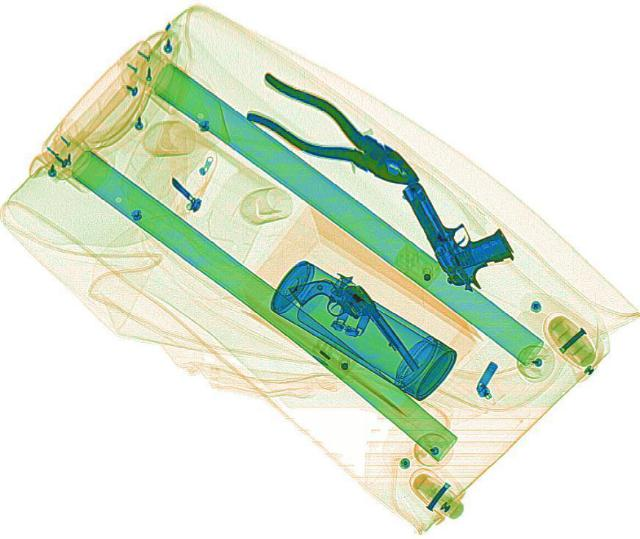Gun: (396, 165, 526, 296), (289, 264, 421, 389)
Pliers: (230, 68, 436, 201)
